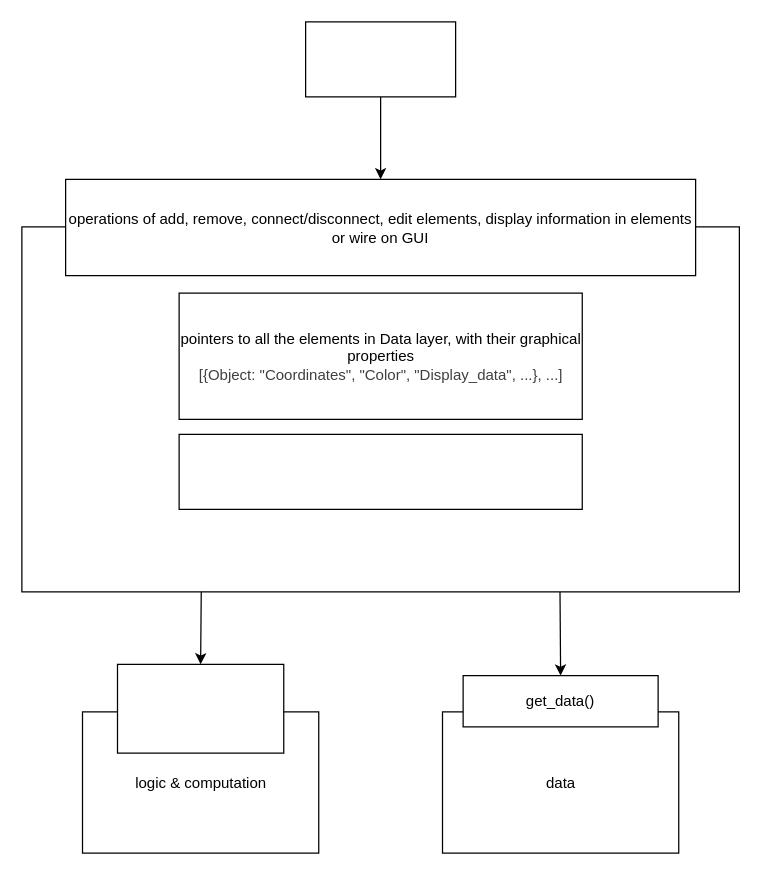
The diagram is 761 pixels wide and 875 high, and some of its shapes have lost their labels. Each missing label, with the box of its shape:
add_element(), remove_element(), connect_element(), disconnect_element(), ...: (116, 663, 284, 753)
call methods in logic&comp layer based on user operations.: (178, 433, 582, 509)
user: (304, 21, 456, 97)
